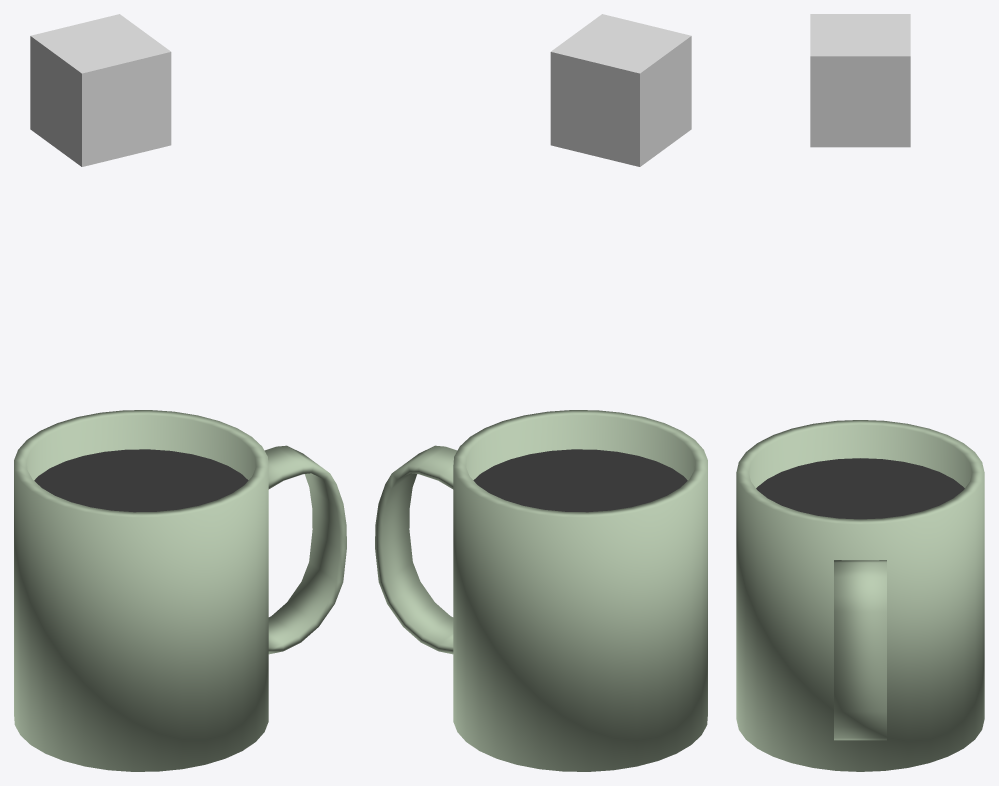
The model's file is low_poly_mug.fbx.
3 renders of one model, left to right at view 1: azimuth 30°, elevation 25°; view 2: azimuth 150°, elevation 25°; view 3: azimuth 270°, elevation 25°, orthographic. The views are drawn at different scales.
Visible parts, largest first — view 1: Cylinder, Cube, Circle, Plane; view 2: Cylinder, Cube, Circle, Plane; view 3: Cylinder, Cube, Plane, Circle.
Part boxes in pixels (x1=…): Cylinder: x1=14, y1=410, x2=268, y2=771; Cube: x1=30, y1=14, x2=171, y2=166; Circle: x1=34, y1=449, x2=248, y2=512; Plane: x1=264, y1=445, x2=346, y2=654; Cylinder: x1=453, y1=410, x2=707, y2=771; Cube: x1=550, y1=14, x2=691, y2=166; Circle: x1=473, y1=449, x2=687, y2=512; Plane: x1=375, y1=445, x2=457, y2=654; Cylinder: x1=736, y1=420, x2=984, y2=771; Cube: x1=810, y1=14, x2=910, y2=147; Plane: x1=834, y1=560, x2=886, y2=740; Circle: x1=756, y1=458, x2=964, y2=519.
Size of the model in its own units: 249 by 538 by 182.
